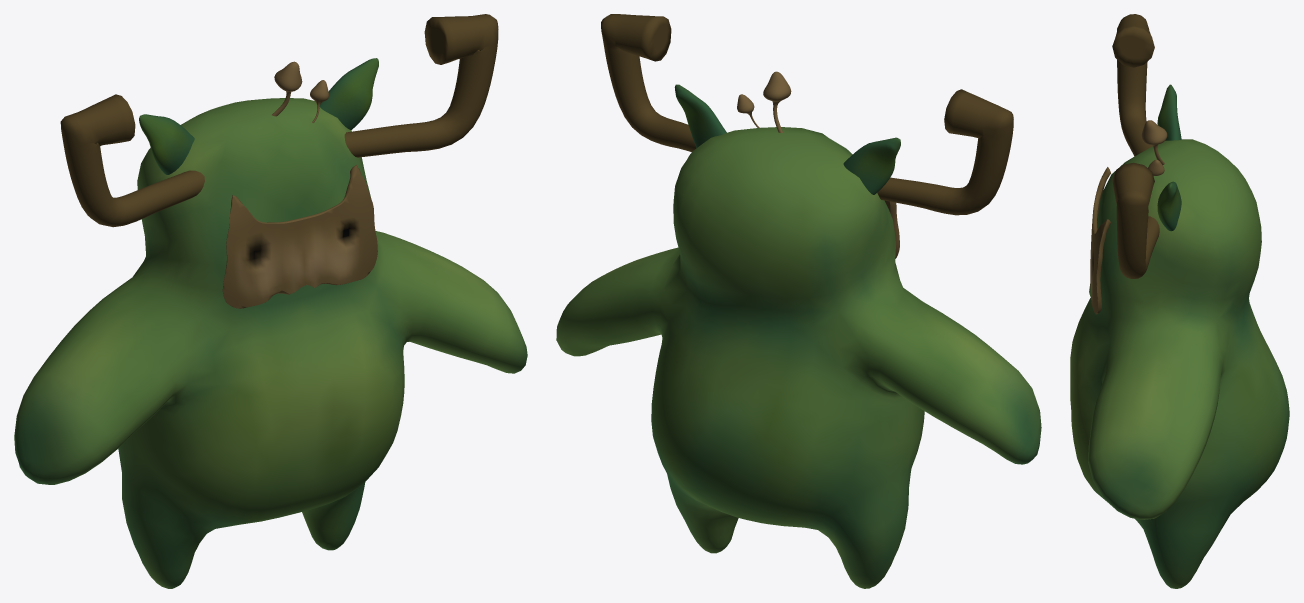
Rendered from Sillyguy 8.fbx.
The picture shows the model from 3 angles, left to right: view 1: azimuth 30°, elevation 25°; view 2: azimuth 150°, elevation 25°; view 3: azimuth 270°, elevation 25°; orthographic projection. The views are drawn at different scales.
Parts seen in each view (by area): view 1: Sillyguy 8; view 2: Sillyguy 8; view 3: Sillyguy 8.
Boxes of the visible parts, left/top/right/bottom form: Sillyguy 8: left=14, top=14, right=527, bottom=588; Sillyguy 8: left=556, top=14, right=1041, bottom=588; Sillyguy 8: left=1070, top=14, right=1289, bottom=588.
Size of the model in its own units: 1.68 by 1.71 by 0.7389.
